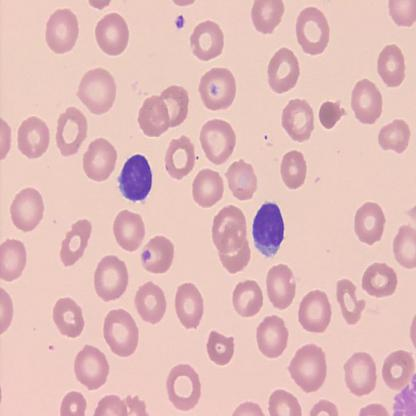Lymphocyte: (116, 152, 153, 204), (252, 201, 285, 258)
